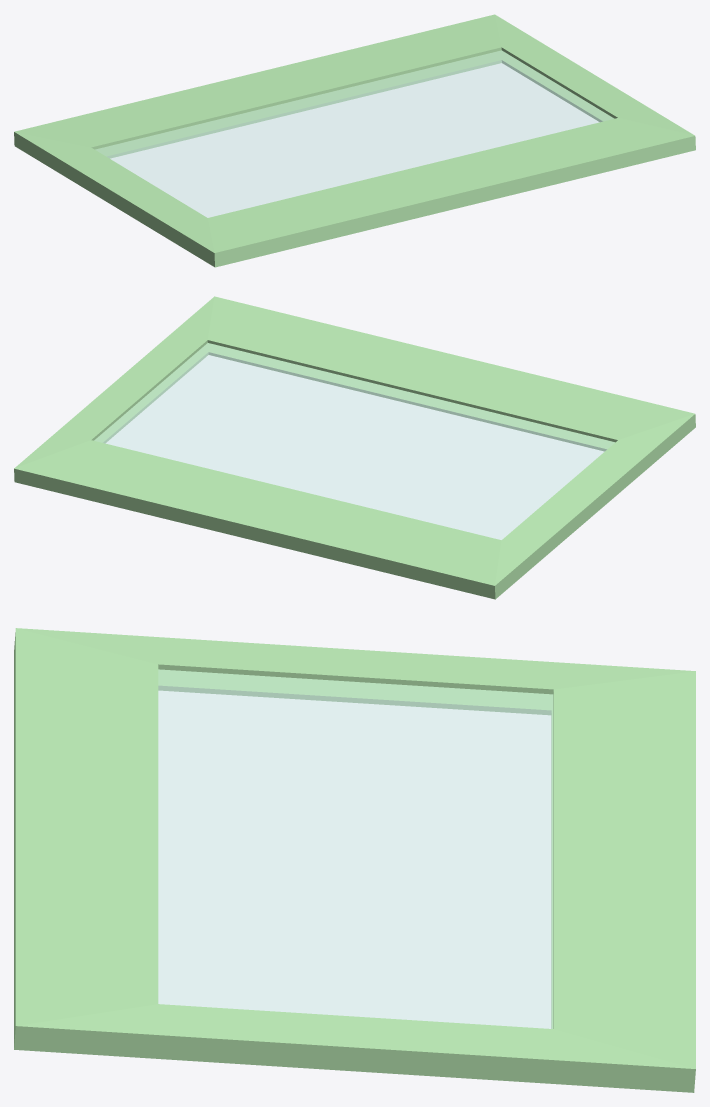
The model's file is ovenDoor.FBX.
3 renders of one model, top to bottom at view 1: azimuth 30°, elevation 25°; view 2: azimuth 150°, elevation 25°; view 3: azimuth 270°, elevation 25°, orthographic. The views are drawn at different scales.
Parts seen in each view (by area): view 1: Box006; view 2: Box006; view 3: Box006.
Part boxes in pixels (left/top/right/bottom): Box006: left=14, top=14, right=695, bottom=267; Box006: left=14, top=296, right=695, bottom=599; Box006: left=14, top=628, right=695, bottom=1092.
Size of the model in its own units: 114 by 8.93 by 82.61.
